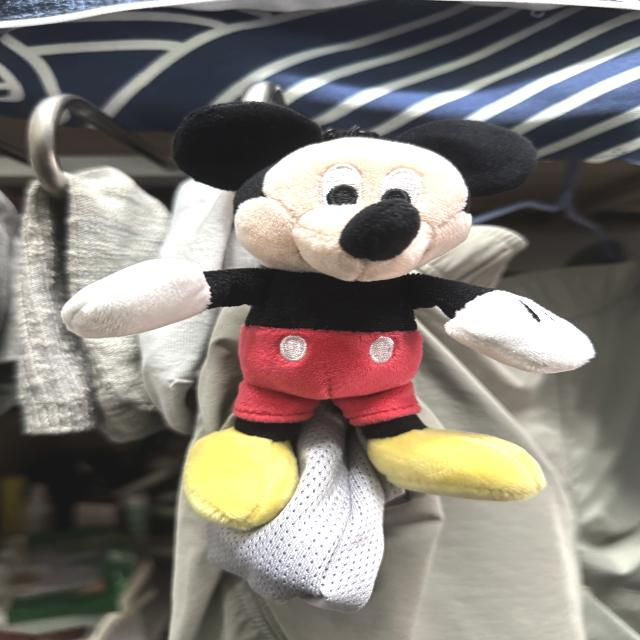mickey: (63, 103, 593, 529)
